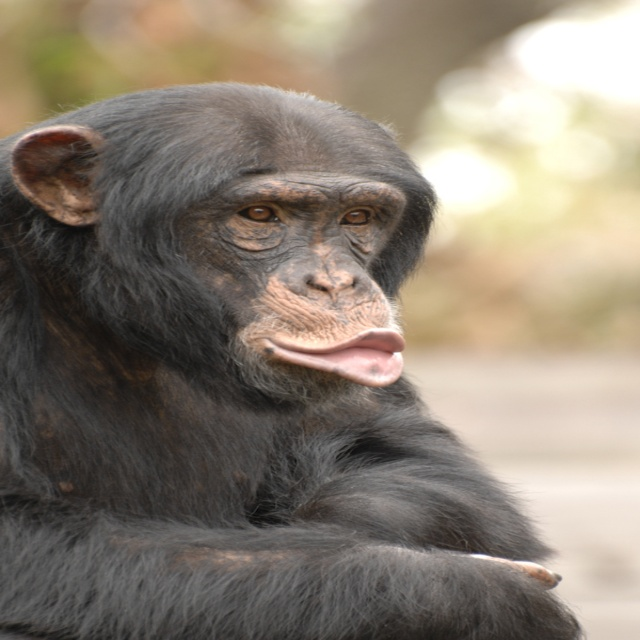Monkey: (0, 85, 579, 639)
